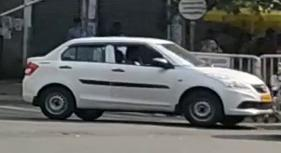Car: (18, 31, 273, 128)
